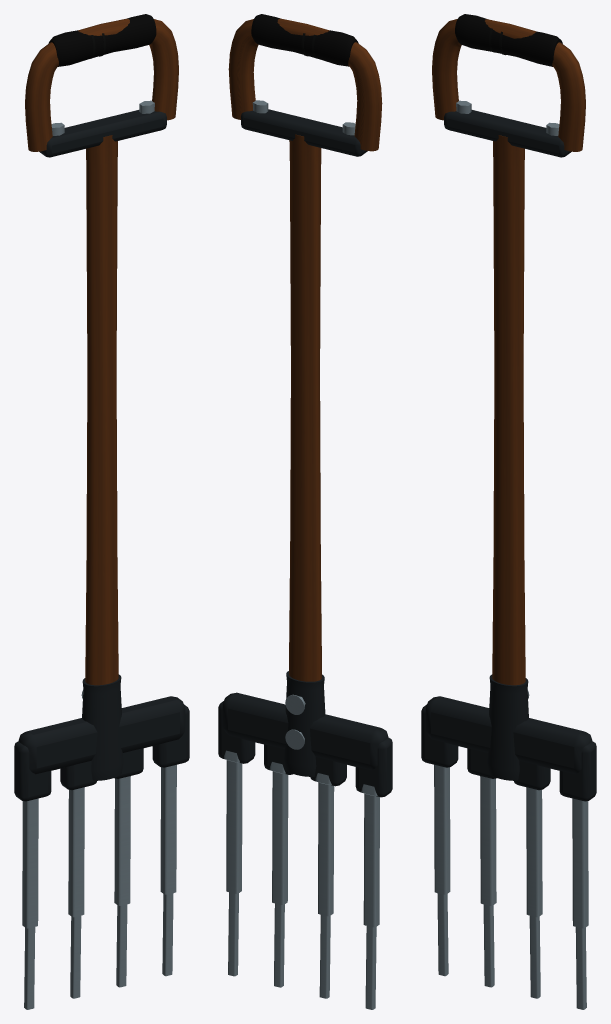
Rendered from DiggingFork.gltf.
3 renders of one model, left to right at view 1: azimuth 30°, elevation 25°; view 2: azimuth 150°, elevation 25°; view 3: azimuth 330°, elevation 25°, orthographic.
Visible parts, largest first — view 1: DiggingFork__Body; view 2: DiggingFork__Body; view 3: DiggingFork__Body.
Part boxes in pixels (left/top/right/bottom): DiggingFork__Body: left=14, top=14, right=189, bottom=1009; DiggingFork__Body: left=218, top=14, right=392, bottom=1009; DiggingFork__Body: left=421, top=14, right=596, bottom=1009.
Bounding box in the file's own units: 0.1848 × 1.01 × 0.0364.
1 material, 1 textured.
